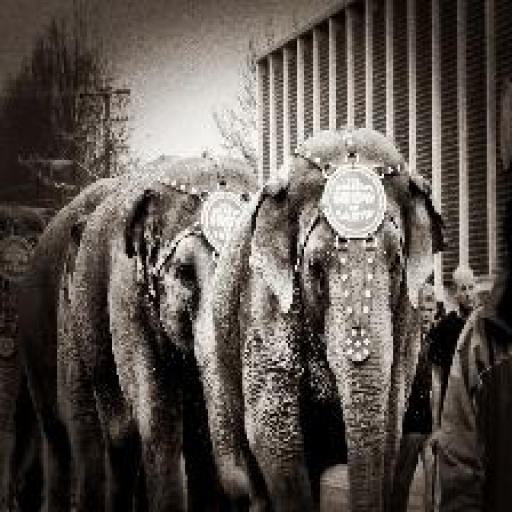Elephant: (14, 155, 260, 510), (229, 123, 448, 510), (0, 196, 55, 510)
